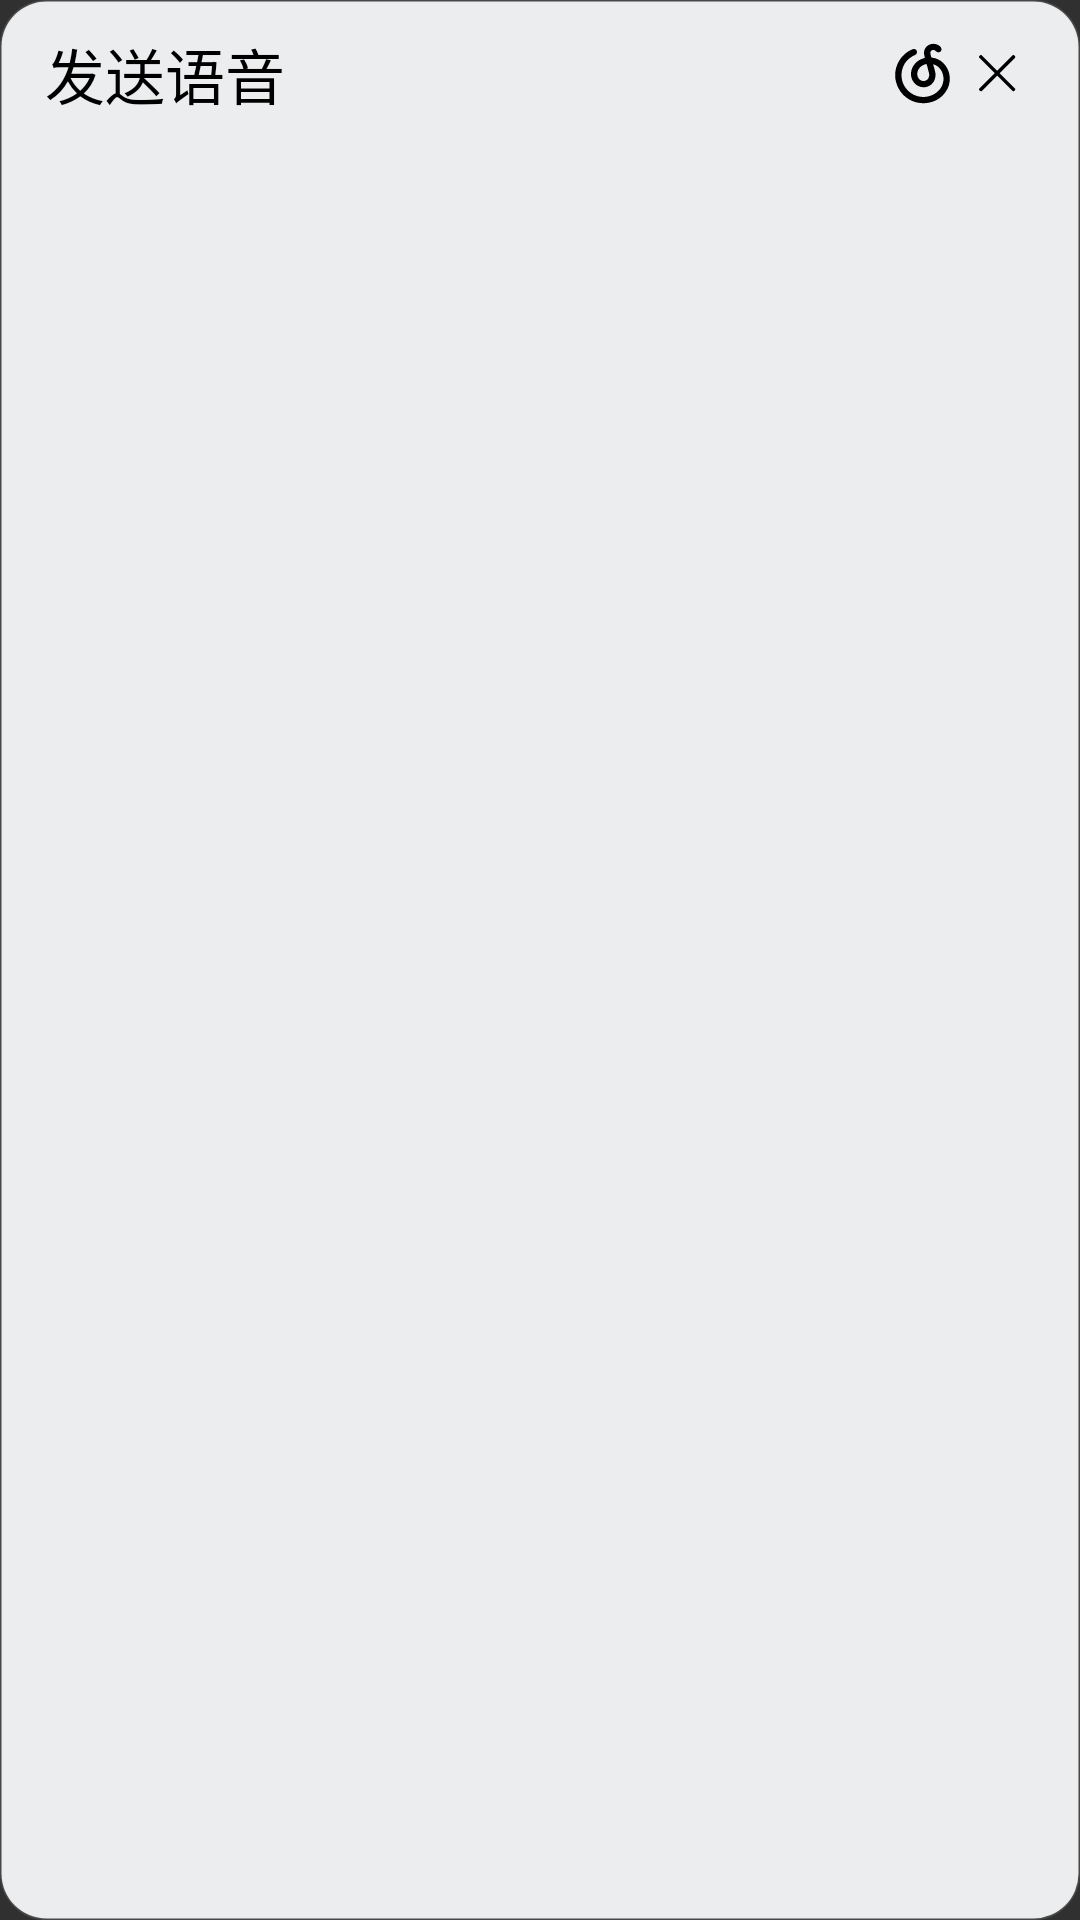

Icons on this 1080 x 1920 Android screen, each with its box as bbox=(x1, y1, x2, y2):
close: bbox=(979, 55, 1016, 92)
